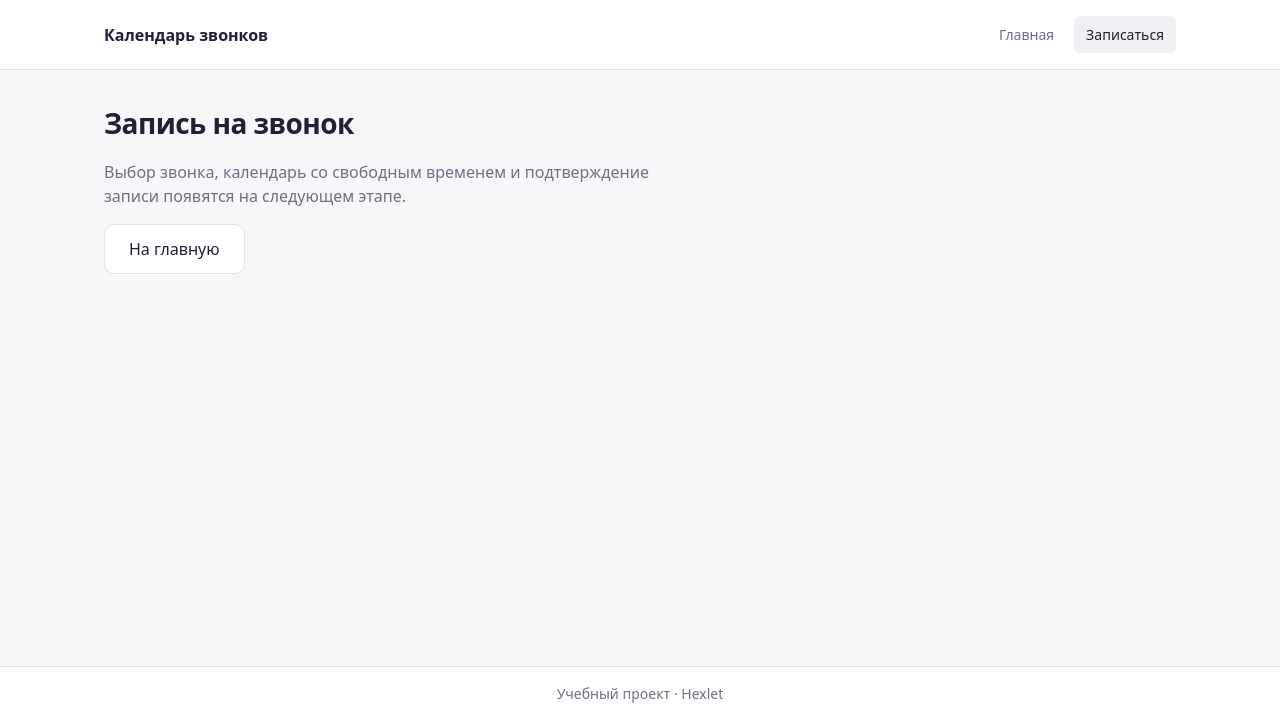
Переход на страницу записи › возвращает на главную страницу
The image size is (1280, 720).
Click the link "На главную" at (174, 249), box [104, 224, 245, 274]
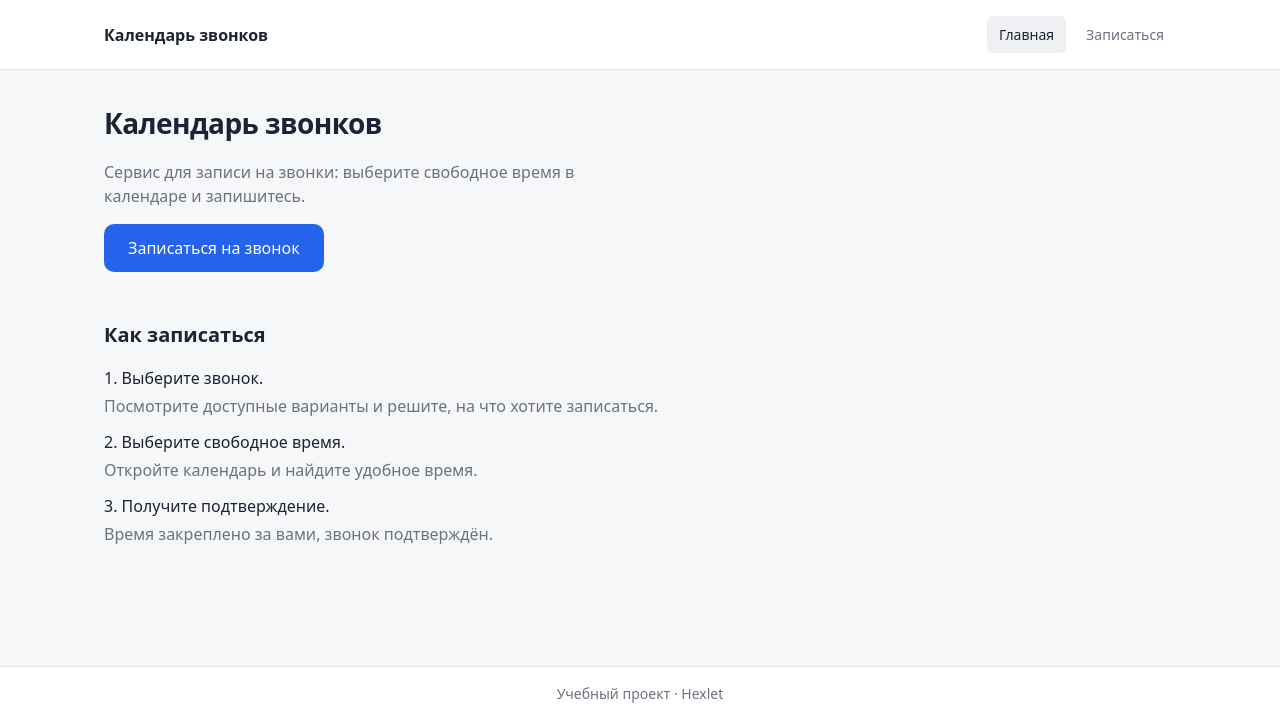
Now the heading "Календарь звонков" is shown, box [104, 102, 382, 144]
